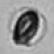correct: (7, 6, 49, 48)
